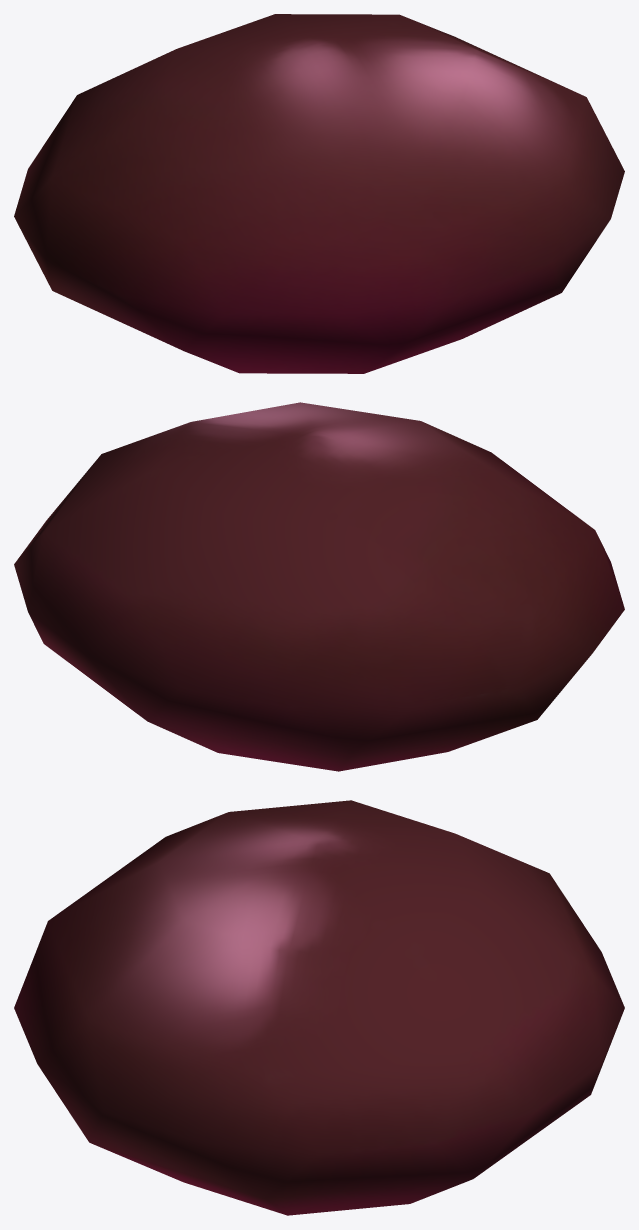
File: candypillchoco.fbx
3 views of the same model, one above another, from view 1: azimuth 30°, elevation 25°; view 2: azimuth 150°, elevation 25°; view 3: azimuth 270°, elevation 25° (orthographic). The views are drawn at different scales.
Visible parts, largest first — view 1: candypillchoco; view 2: candypillchoco; view 3: candypillchoco.
Part boxes in pixels (x1,y1,x2,y2): candypillchoco: [14, 14, 624, 373]; candypillchoco: [14, 402, 624, 771]; candypillchoco: [14, 800, 624, 1215].
Bounding box in the file's own units: 4.64 × 2.42 × 4.1.
